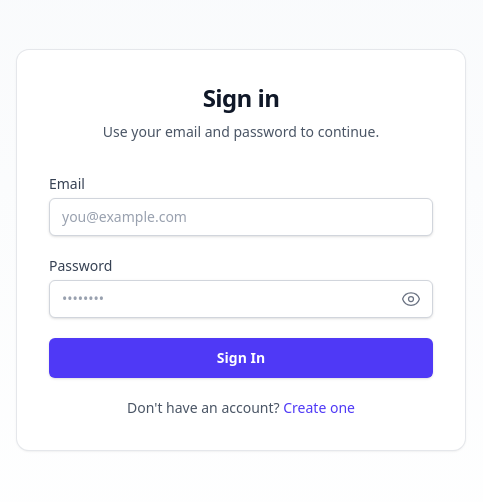
LoginForm › should display error message on failed login
Type "test@example.com" into the field labelled "Email" at (241, 217), box 49,198 -> 433,236
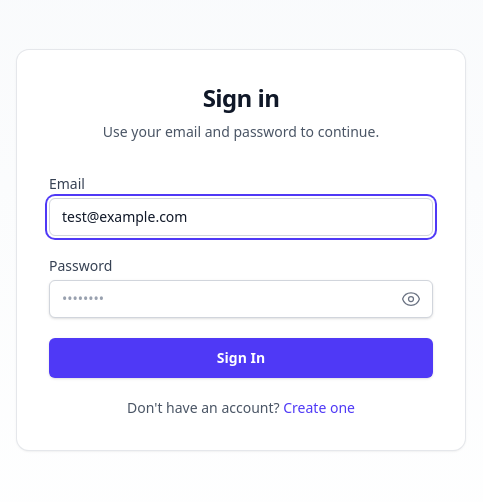
Type "wrongpassword" into the password field labelled "Password" at (241, 299), box 49,280 -> 433,318
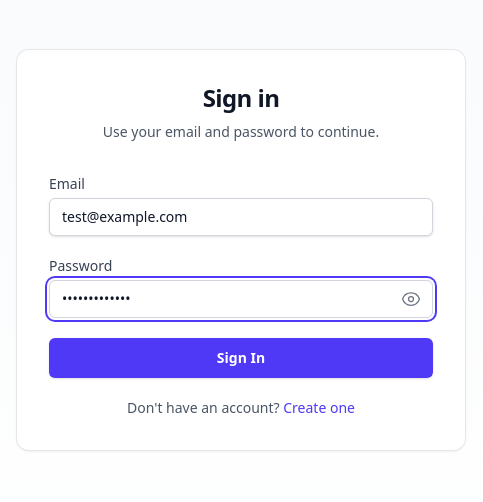
Click the button "Sign In" at (241, 358), box 49,338 -> 433,378
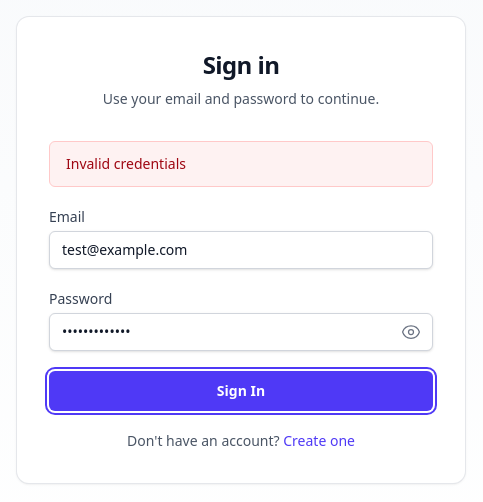
Expected: the message reads "Invalid credentials", 66,154 -> 186,173
